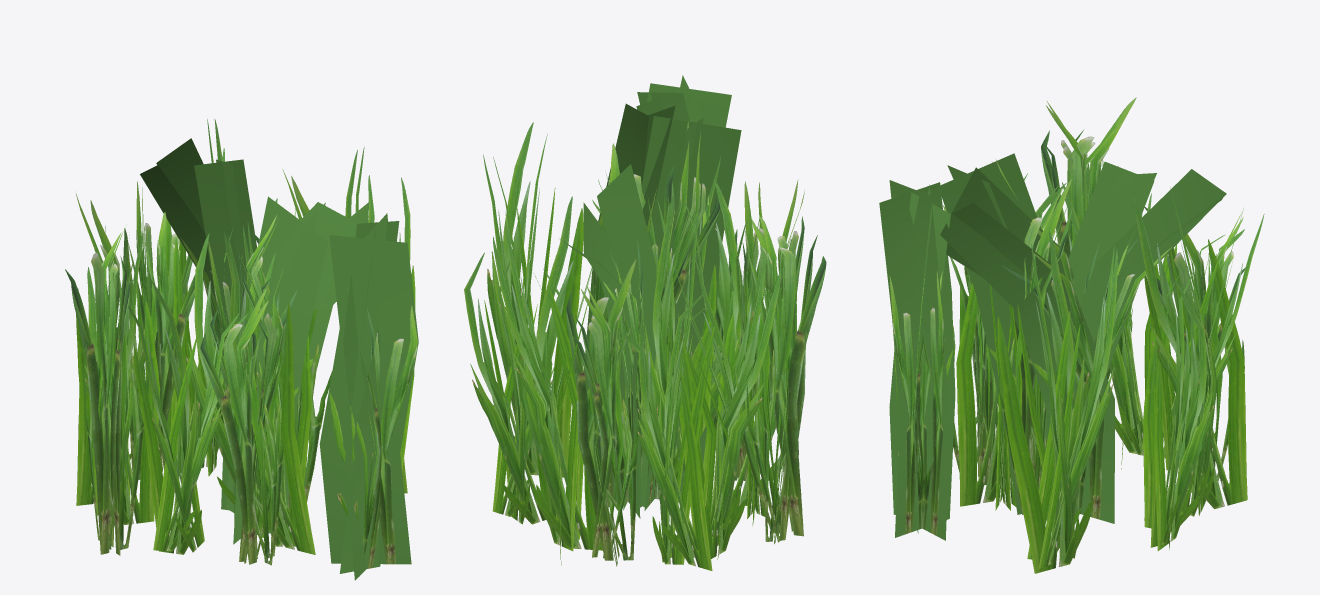
The model's file is Grass02.fbx.
The picture shows the model from 3 angles, left to right: view 1: azimuth 30°, elevation 25°; view 2: azimuth 150°, elevation 25°; view 3: azimuth 270°, elevation 25°; orthographic projection. The views are drawn at different scales.
Visible parts, largest first — view 1: polySurface313; view 2: polySurface313; view 3: polySurface313.
Part boxes in pixels (x1=…): polySurface313: x1=65, y1=119, x2=418, y2=580; polySurface313: x1=464, y1=75, x2=826, y2=570; polySurface313: x1=879, y1=97, x2=1264, y2=573.
Bounding box in the file's own units: 0.3613 × 0.4043 × 0.3623.
